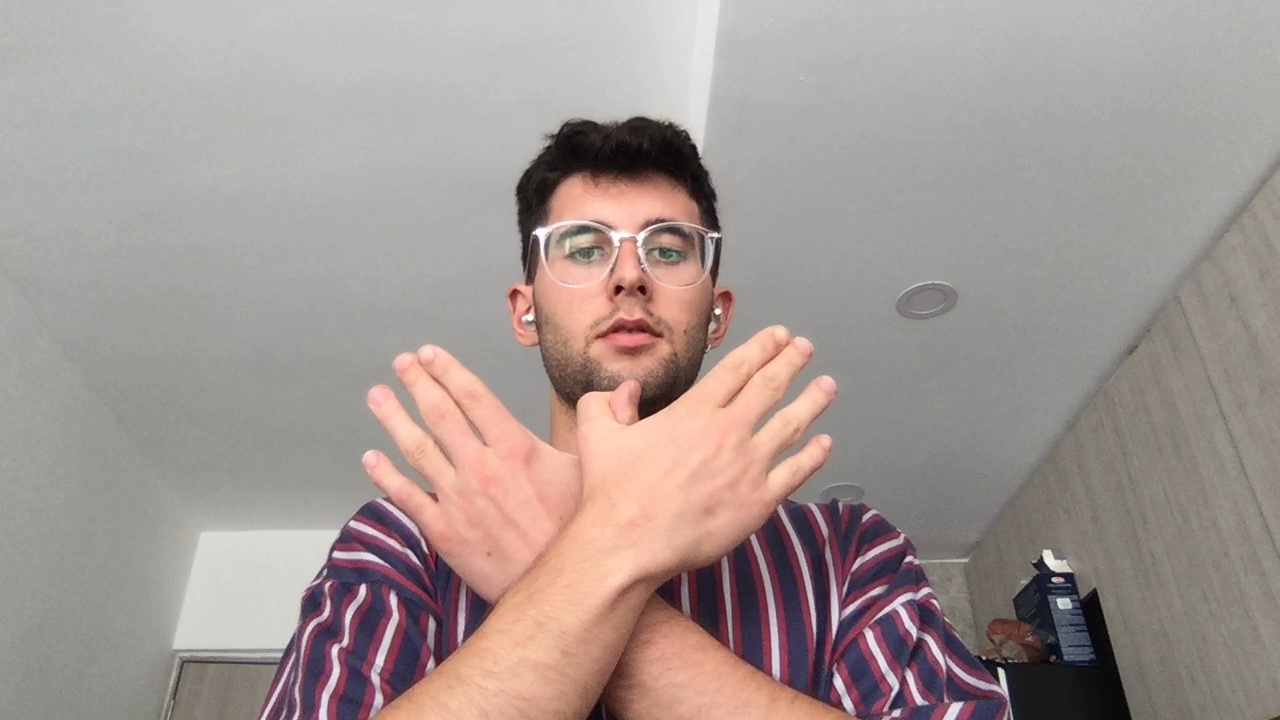ThankYou: (363, 324, 841, 594)
